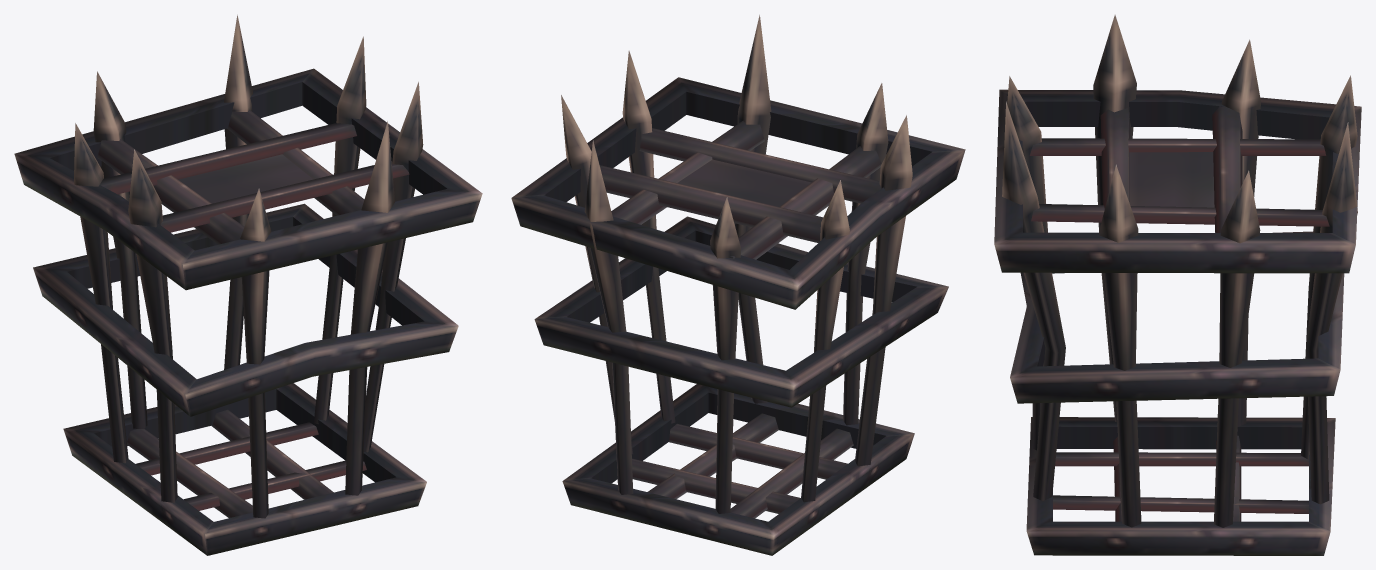
Rendered from longzi.FBX.
3 views of the same model, side by side, from view 1: azimuth 30°, elevation 25°; view 2: azimuth 150°, elevation 25°; view 3: azimuth 270°, elevation 25° (orthographic). The views are drawn at different scales.
Parts seen in each view (by area): view 1: Object057; view 2: Object057; view 3: Object057.
Boxes of the visible parts, left/top/right/bottom form: Object057: left=14, top=14, right=482, bottom=555; Object057: left=511, top=14, right=965, bottom=555; Object057: left=994, top=14, right=1361, bottom=555.
Bounding box in the file's own units: 472 × 612 × 472.
